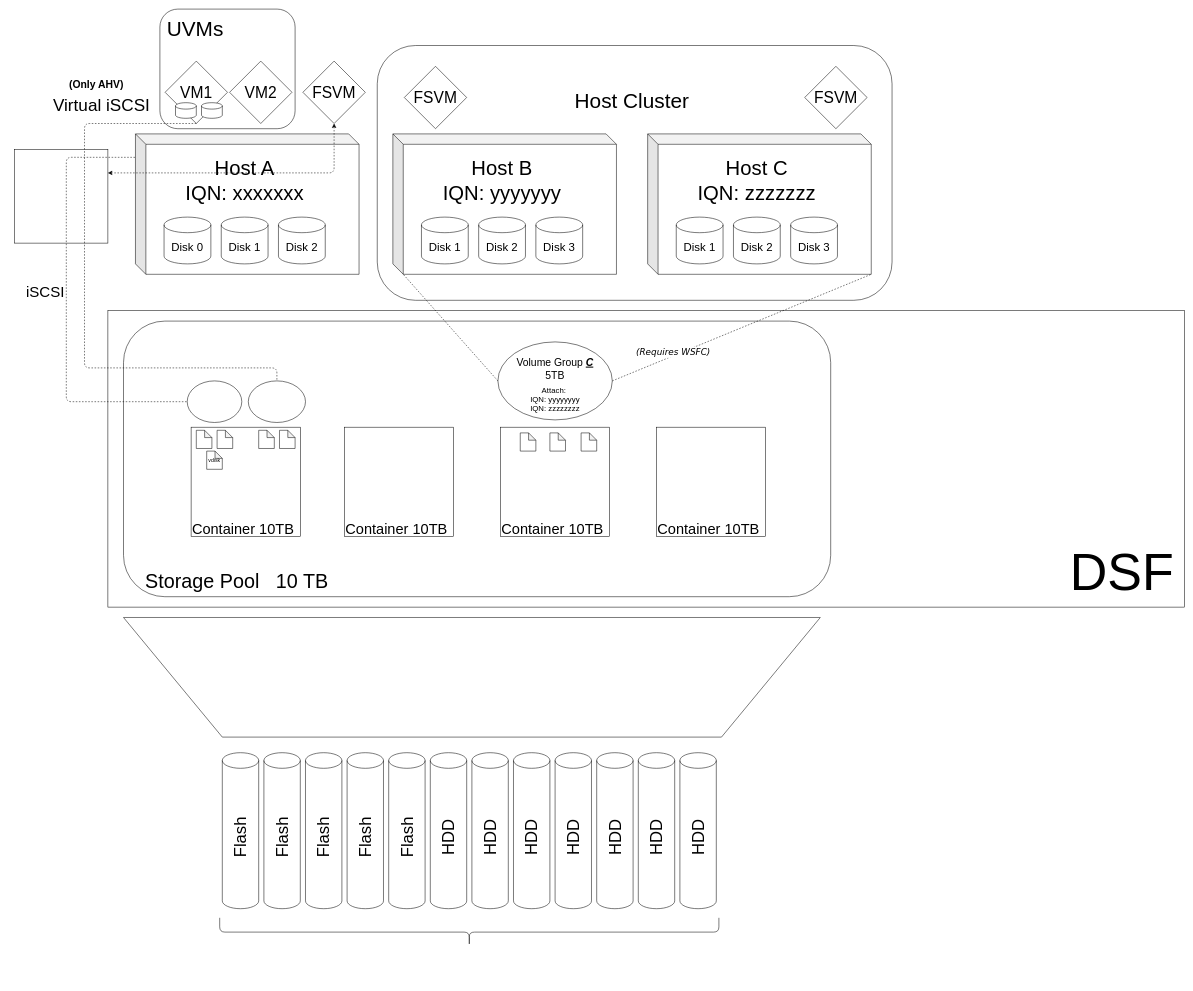
This 1193x991 diagram has some shape labels left out. The shapes that lost their labels are listed below. From the top down, each one's centre as x and y in pixels, then its label:
At point (61, 196): "CVM".
At point (214, 401): "Volume Group A 5TB".
At point (277, 401): "Volume Group B 5TB".
At point (469, 931): "Physical Disks".
